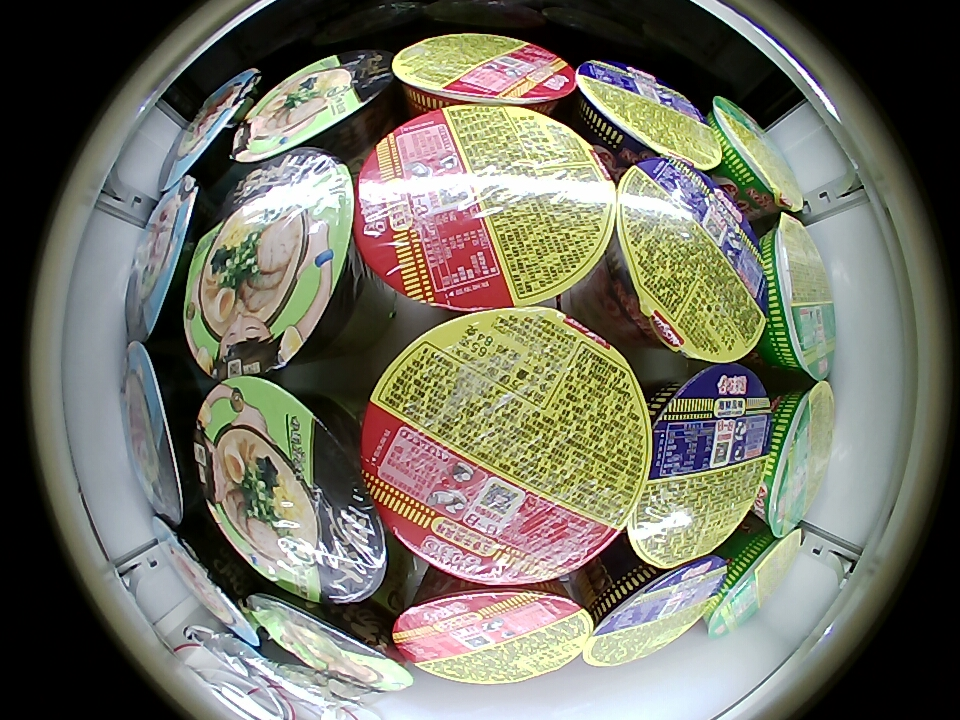heweidao: (615, 156, 768, 364), (628, 364, 775, 567), (574, 59, 721, 171), (584, 555, 726, 668)
heweidao2: (760, 213, 837, 381), (755, 378, 836, 537), (709, 95, 806, 217), (705, 524, 803, 639)
heweidao3: (360, 304, 651, 585), (354, 103, 616, 312), (393, 579, 592, 686), (392, 33, 575, 115)
tangdaren: (193, 377, 389, 606), (180, 150, 356, 380), (231, 50, 398, 164), (248, 590, 412, 696)
tangdaren3: (151, 512, 263, 648), (120, 343, 203, 526), (124, 178, 208, 344), (156, 68, 262, 194)
